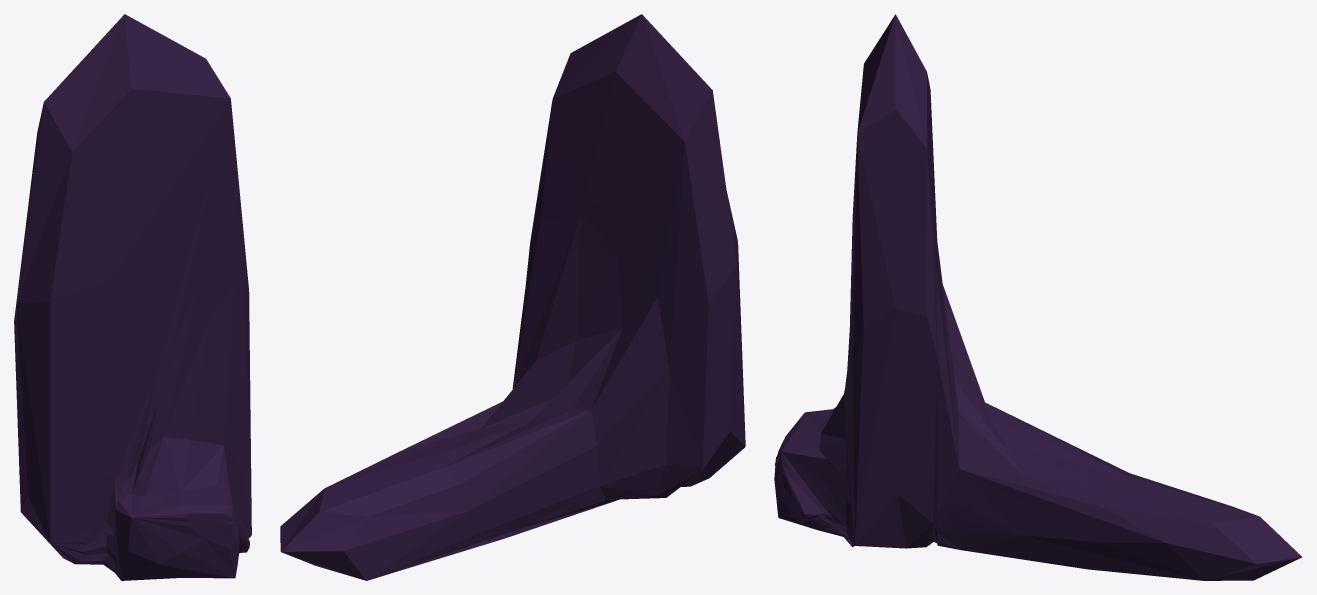
3 views of the same model, side by side, from view 1: azimuth 30°, elevation 25°; view 2: azimuth 150°, elevation 25°; view 3: azimuth 270°, elevation 25° (orthographic). The views are drawn at different scales.
Parts seen in each view (by area): view 1: 532_Cube.2146; view 2: 532_Cube.2146; view 3: 532_Cube.2146.
Boxes of the visible parts, box(x1,y1,x2,y2) form: 532_Cube.2146: box(14, 14, 251, 580); 532_Cube.2146: box(280, 14, 745, 580); 532_Cube.2146: box(774, 14, 1302, 580).
Size of the model in its own units: 7.59 by 12.04 by 11.68.
